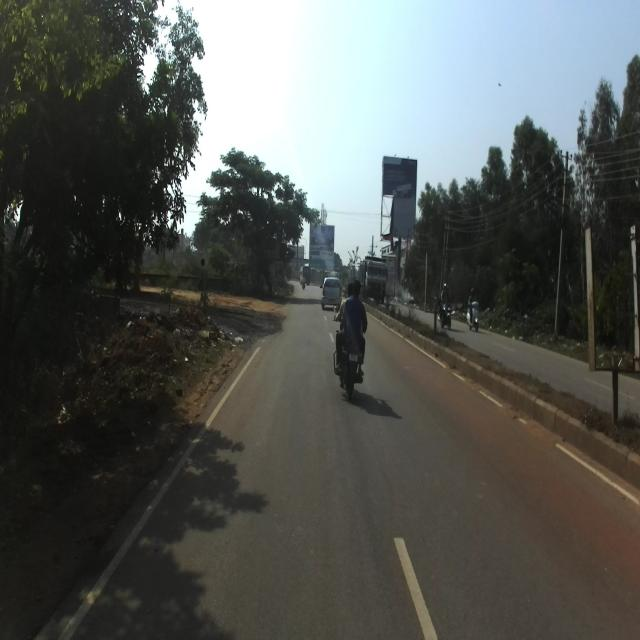motorcycle_Honda: (332, 304, 364, 402)
